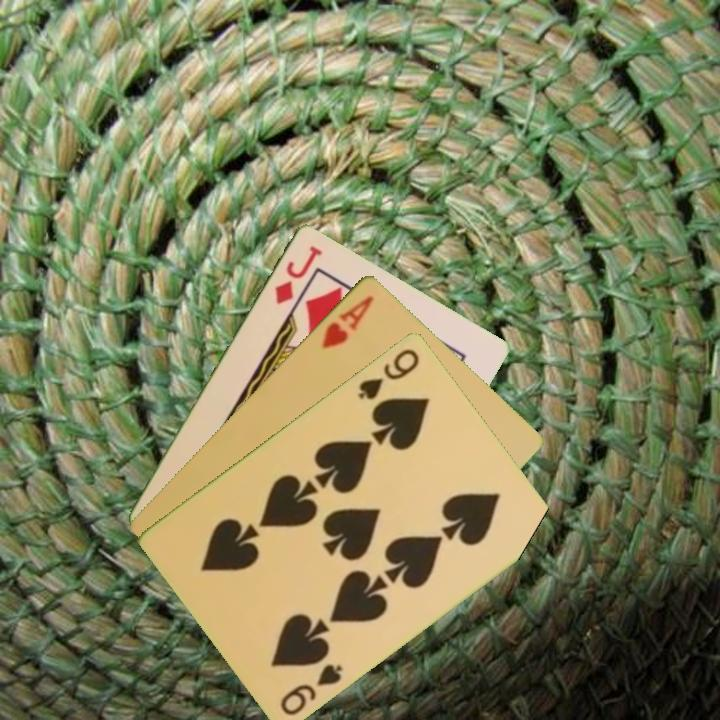9s: (354, 344, 423, 403), (277, 659, 346, 718)
Ah: (318, 291, 377, 351)
Jd: (271, 241, 325, 307)
